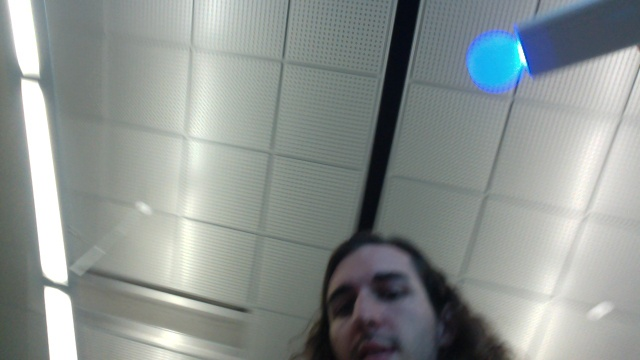wand: (468, 32, 526, 92)
